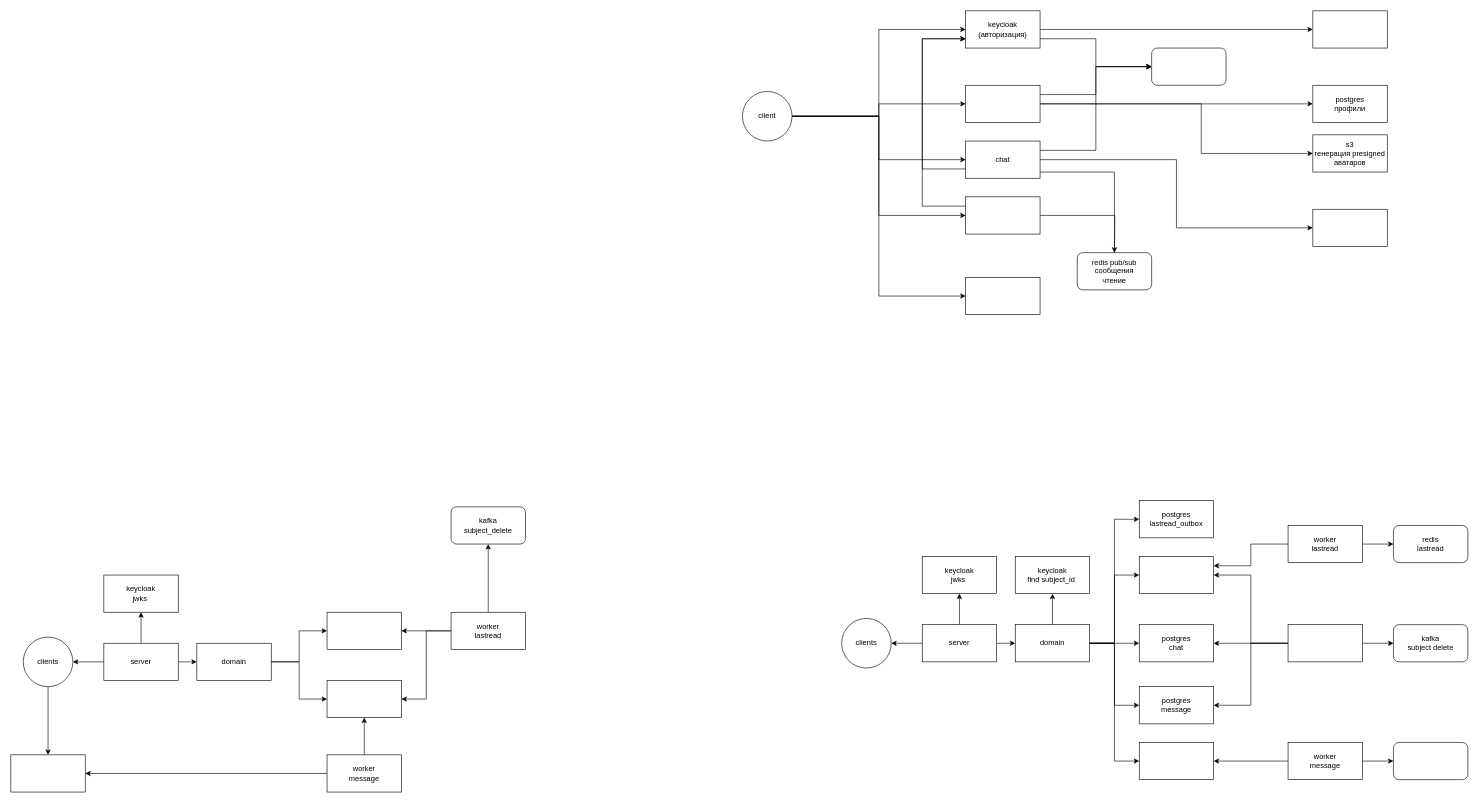
Image size: 1479x803. Some labels were removed from this diagram. Here are the shapes that lost their labels. From the top down, the centre of each, then its label:
At point (1349, 29): "postgres данные пользователей".
At point (1188, 66): "kafka удаление пользователя".
At point (1002, 103): "profile".
At point (1002, 215): "websocket".
At point (1349, 227): "postgres сообщения/чаты".
At point (1002, 296): "s3 получение по url".
At point (1176, 575): "postgres lastread".
At point (363, 630): "postgres profile".
At point (1324, 643): "worker subject delete".
At point (363, 699): "postgres avatar_outbox".
At point (47, 773): "s3 avatar".
At point (1176, 761): "postgres message_outbox".
At point (1430, 761): "redis message".
